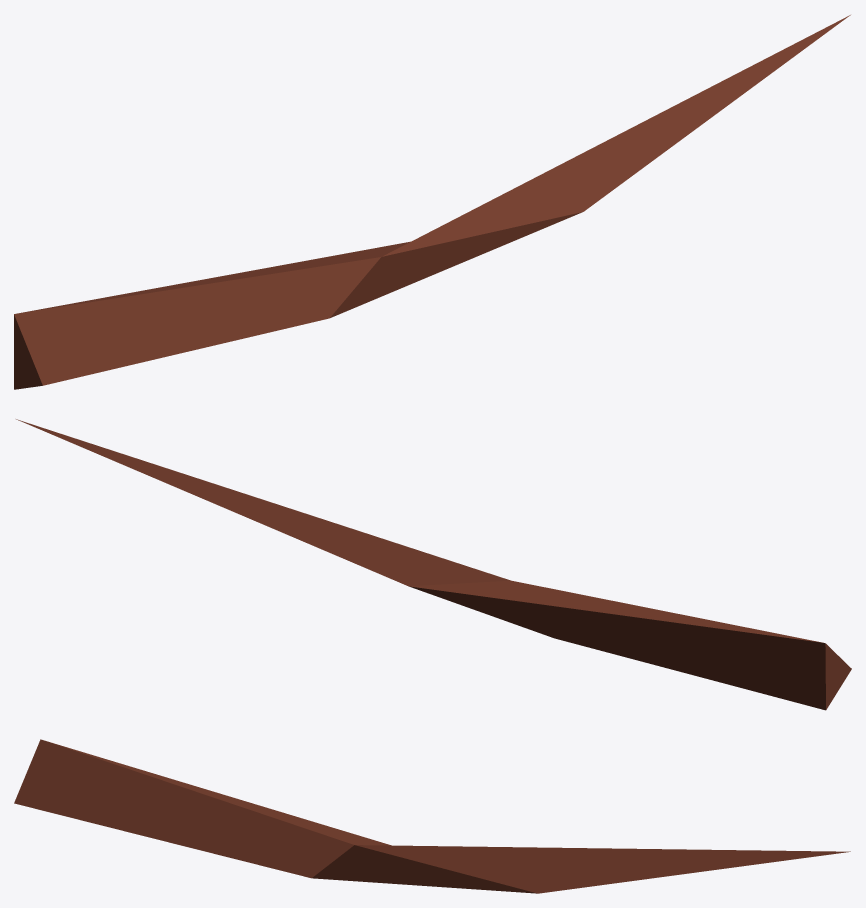
Rendered from pine_branch_type_3_LOD1.fbx.
3 renders of one model, top to bottom at view 1: azimuth 30°, elevation 25°; view 2: azimuth 150°, elevation 25°; view 3: azimuth 330°, elevation 25°, orthographic. The views are drawn at different scales.
Visible parts, largest first — view 1: Circle.032; view 2: Circle.032; view 3: Circle.032.
Part boxes in pixels (left/top/right/bottom): Circle.032: left=14, top=15, right=850, bottom=389; Circle.032: left=16, top=419, right=851, bottom=710; Circle.032: left=14, top=739, right=850, bottom=893.
Size of the model in its own units: 310 by 46.87 by 38.74.
